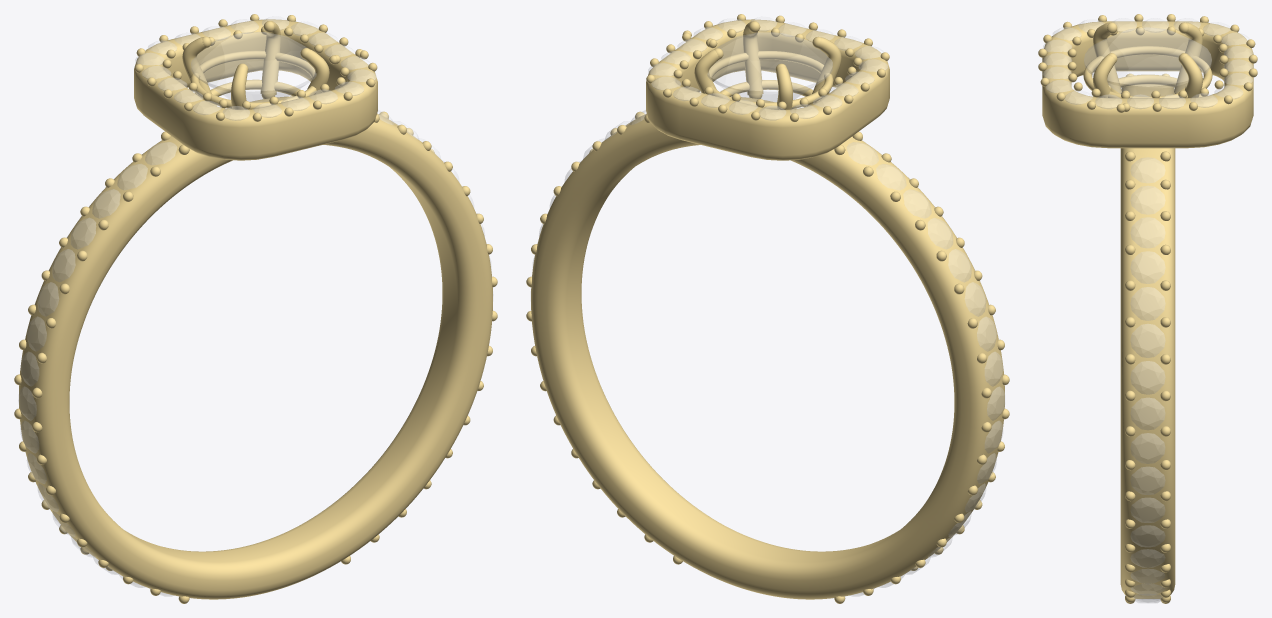
The model's file is cushion_halo_ring.glb.
The picture shows the model from 3 angles, left to right: view 1: azimuth 30°, elevation 25°; view 2: azimuth 150°, elevation 25°; view 3: azimuth 270°, elevation 25°; orthographic projection.
Parts seen in each view (by area): view 1: cushion_halo_ring; view 2: cushion_halo_ring; view 3: cushion_halo_ring.
Part boxes in pixels (<box>): cushion_halo_ring: <box>14,14,497,603</box>; cushion_halo_ring: <box>526,14,1009,603</box>; cushion_halo_ring: <box>1038,14,1257,603</box>.
Size of the model in its own units: 2.06 by 2.31 by 0.8565.
